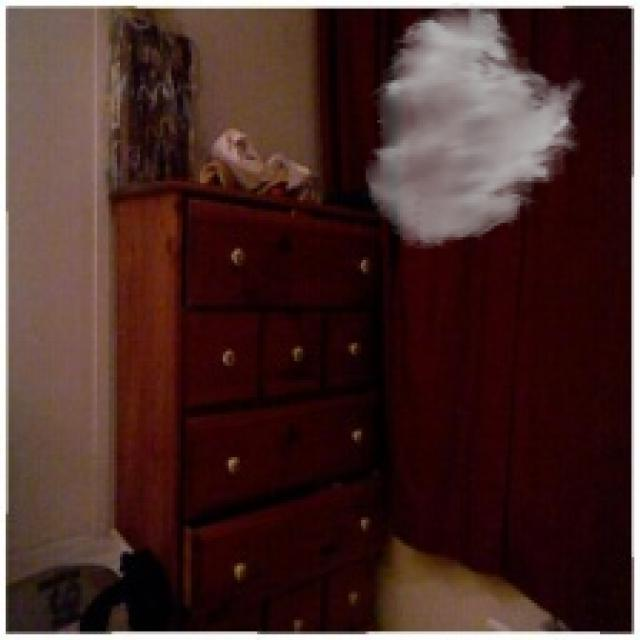smoke: (363, 0, 587, 252)
